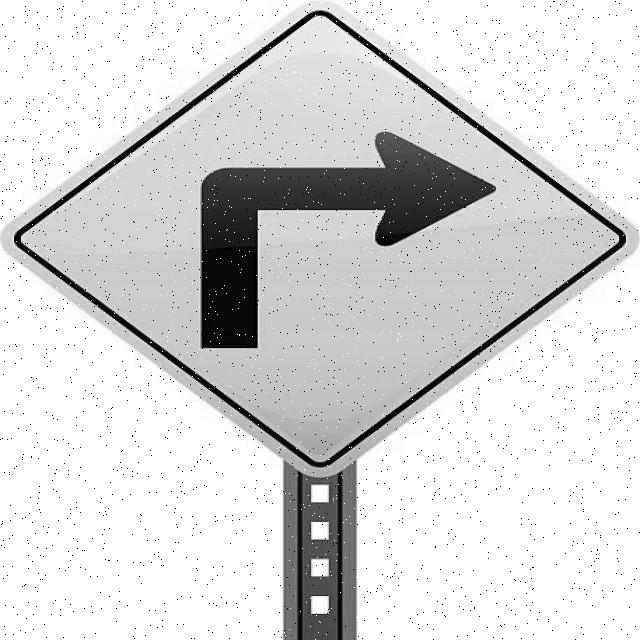Righthand_curve: (4, 0, 630, 479)
